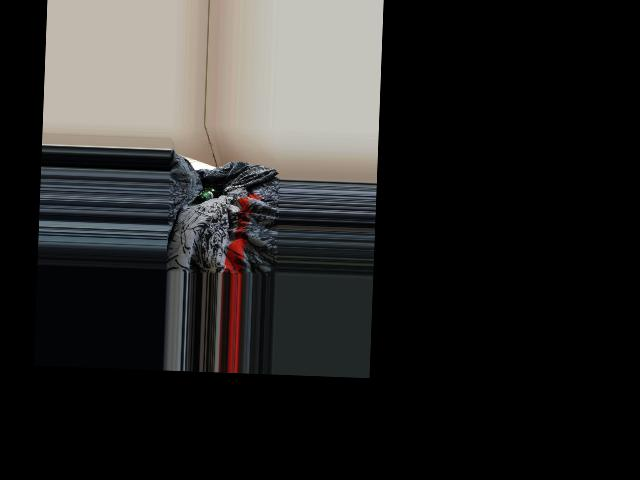beer: (194, 184, 223, 204)
